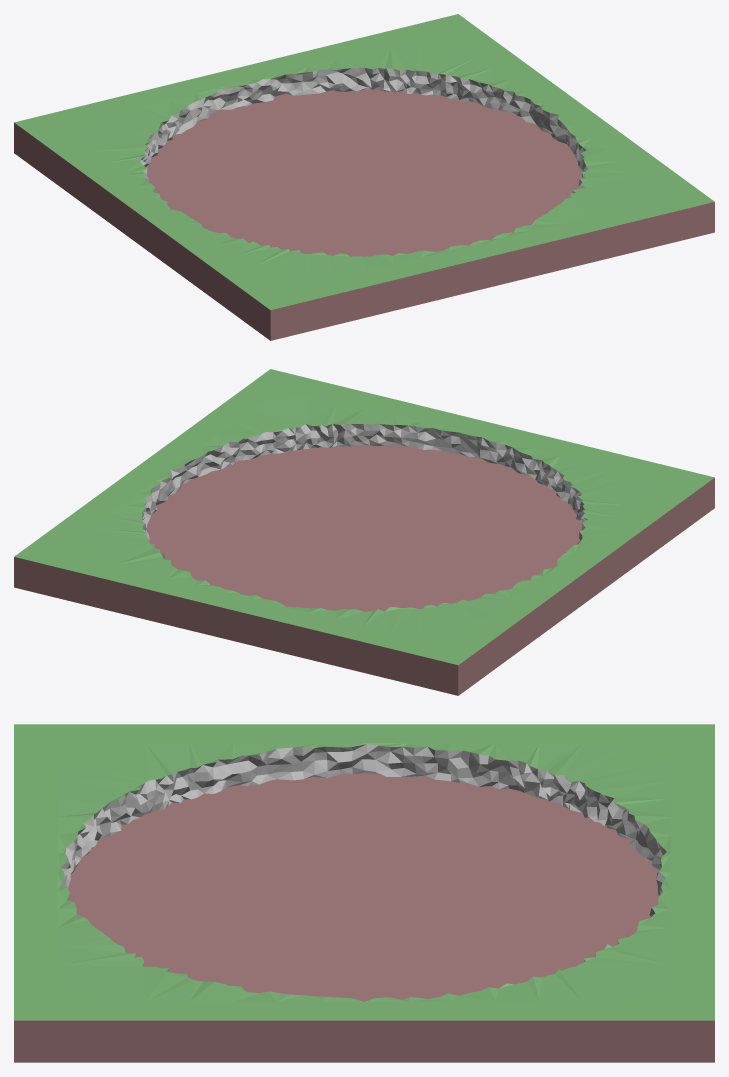
File: arena.dae
3 renders of one model, top to bottom at view 1: azimuth 30°, elevation 25°; view 2: azimuth 150°, elevation 25°; view 3: azimuth 270°, elevation 25°, orthographic. The views are drawn at different scales.
Visible parts, largest first — view 1: Arena; view 2: Arena; view 3: Arena.
Part boxes in pixels (left/top/right/bottom): Arena: left=14, top=14, right=714, bottom=340; Arena: left=14, top=369, right=714, bottom=695; Arena: left=14, top=724, right=714, bottom=1062.
Bounding box in the file's own units: 37.29 × 37.29 × 2.6.
